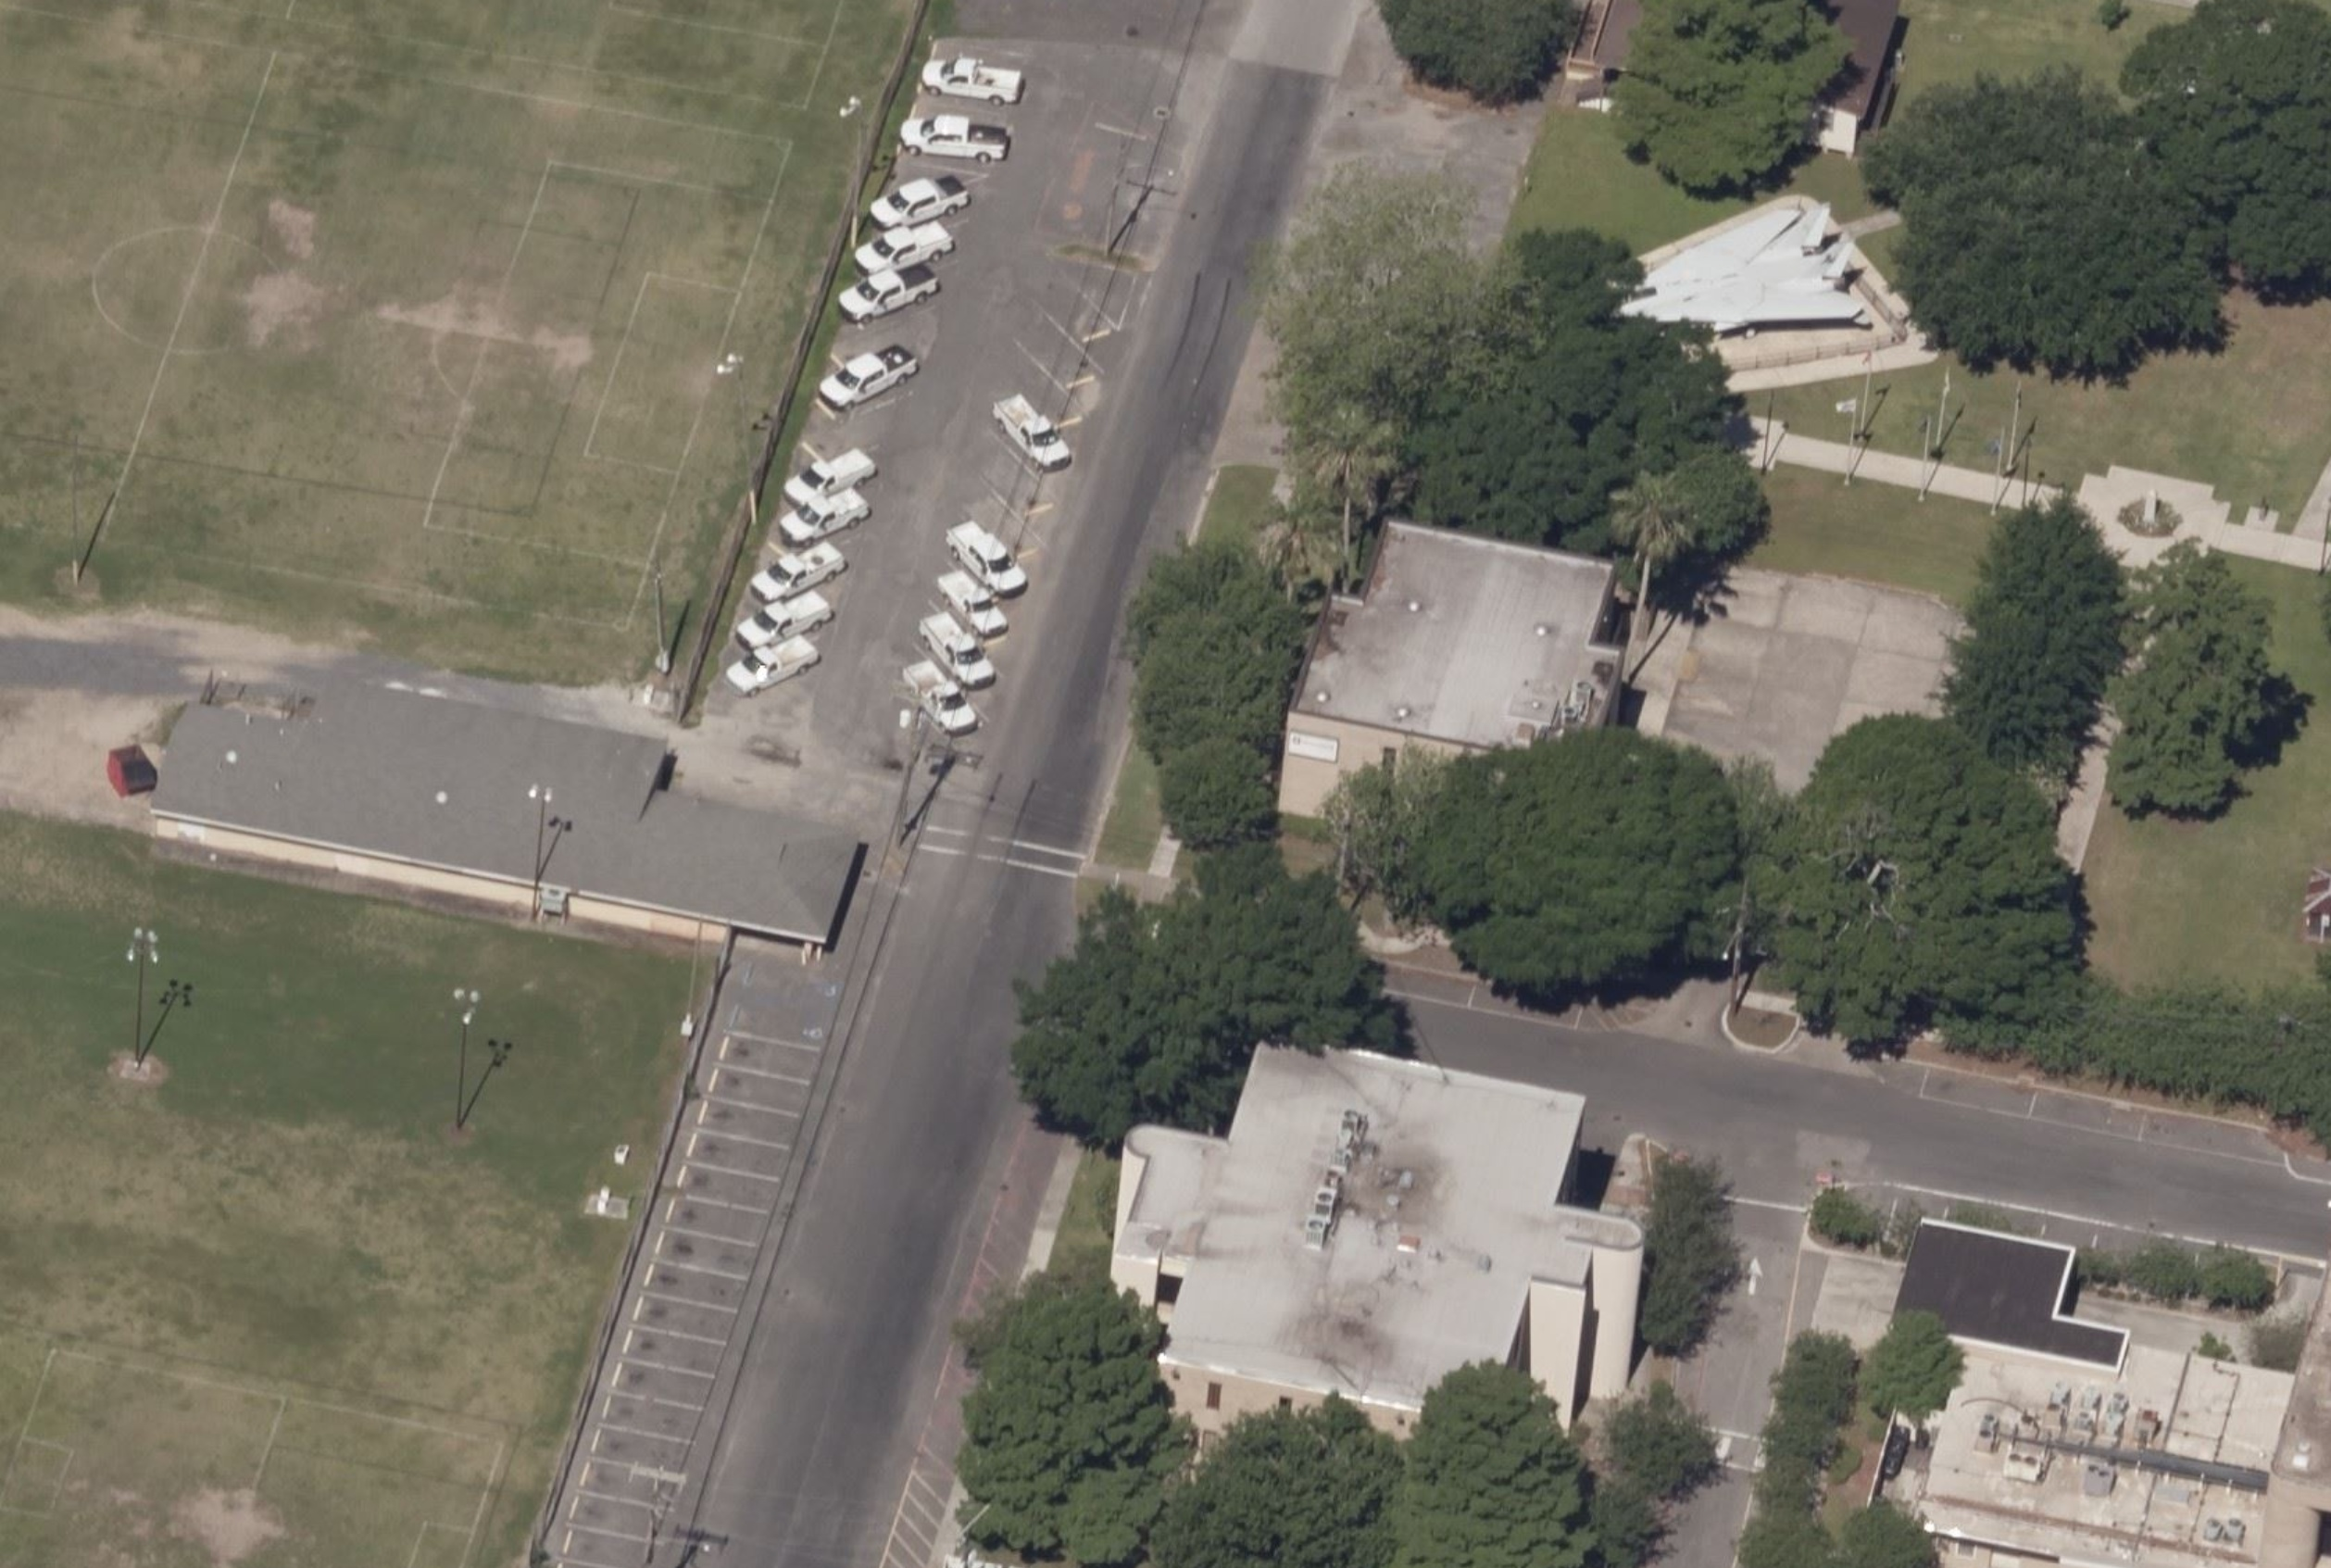F14: (1610, 199, 1871, 340)
